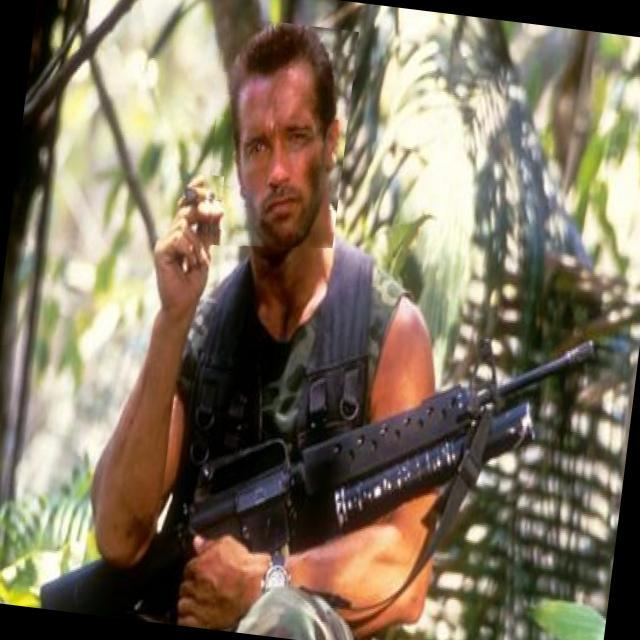cigarette: (172, 170, 224, 202)
